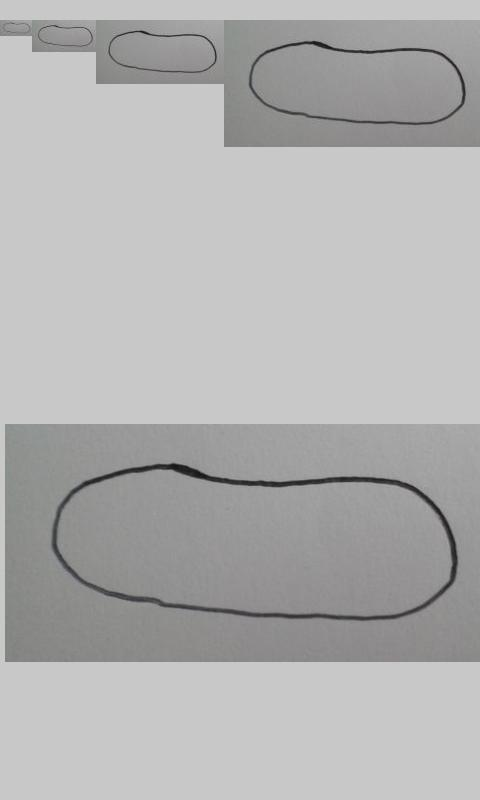chip: (50, 464, 458, 622), (248, 40, 468, 127), (107, 30, 217, 73), (38, 25, 93, 47), (2, 22, 31, 34)
